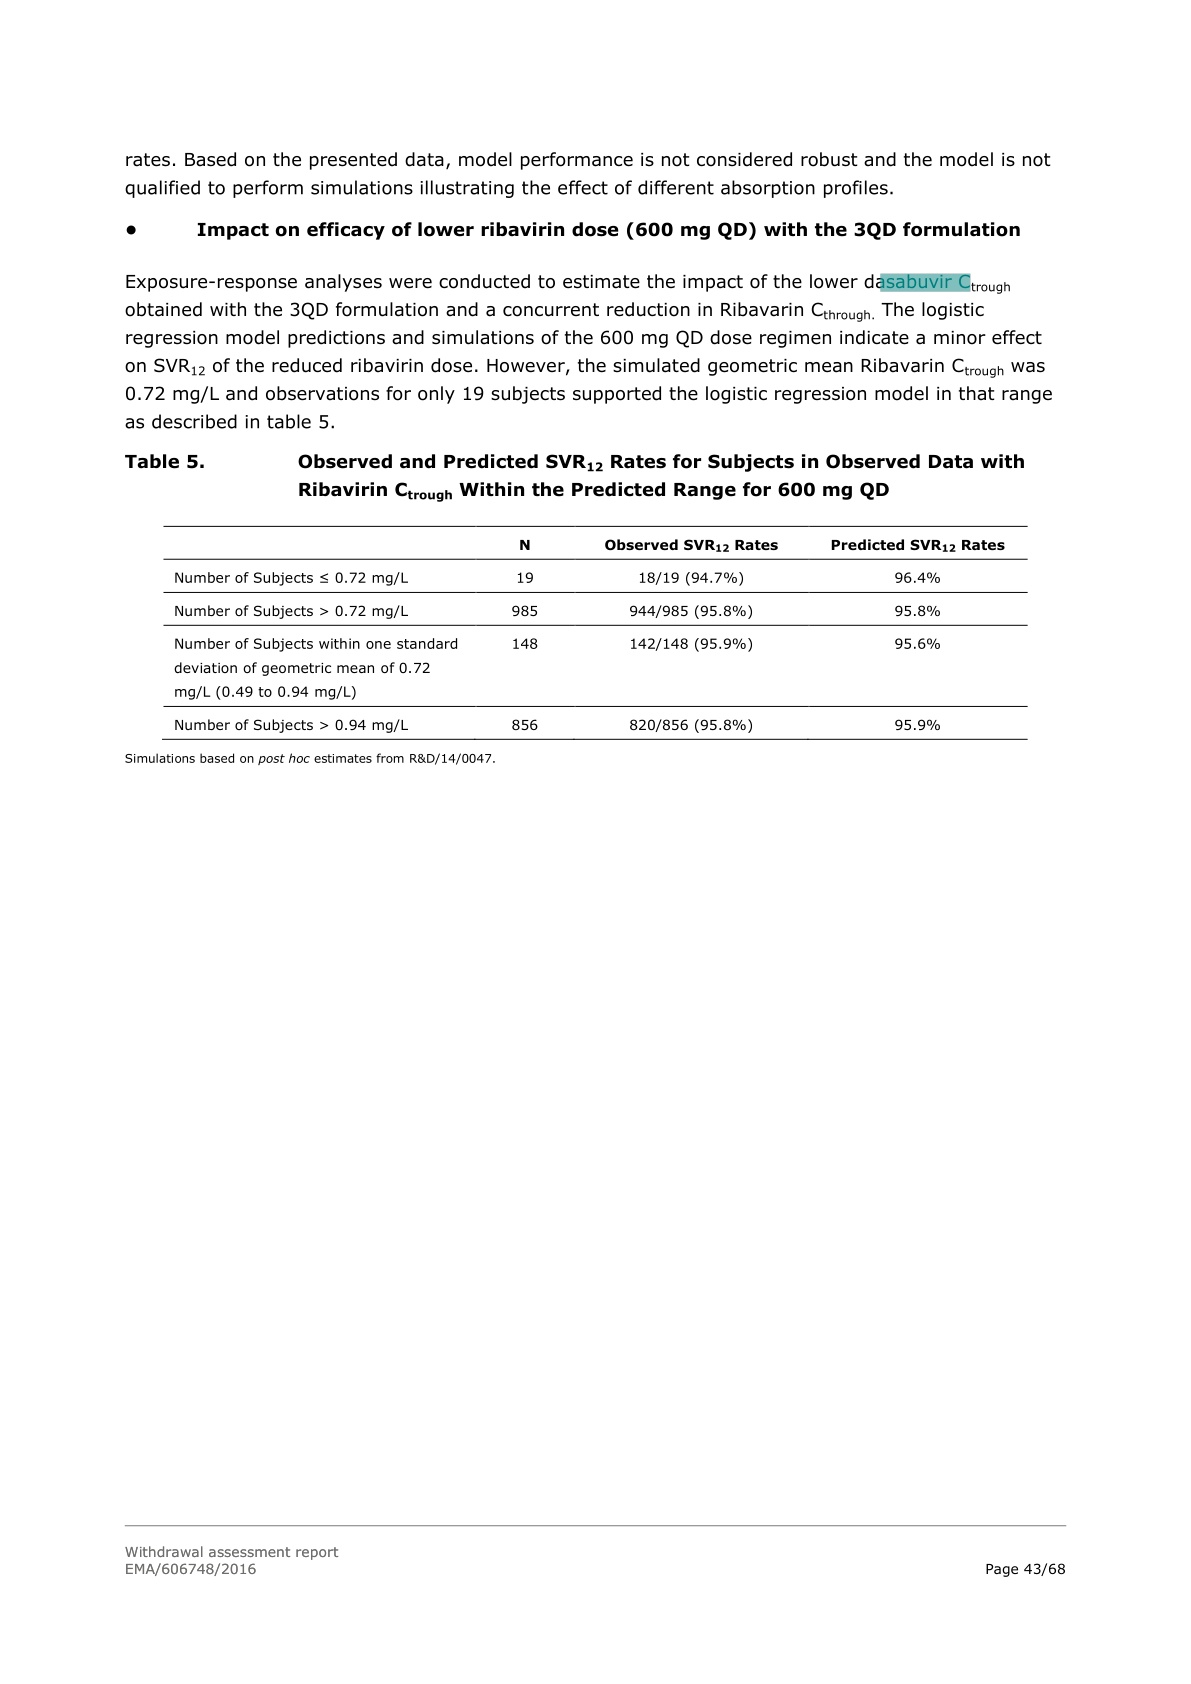partial_lined_merged_cells: (159, 524, 1031, 743)
